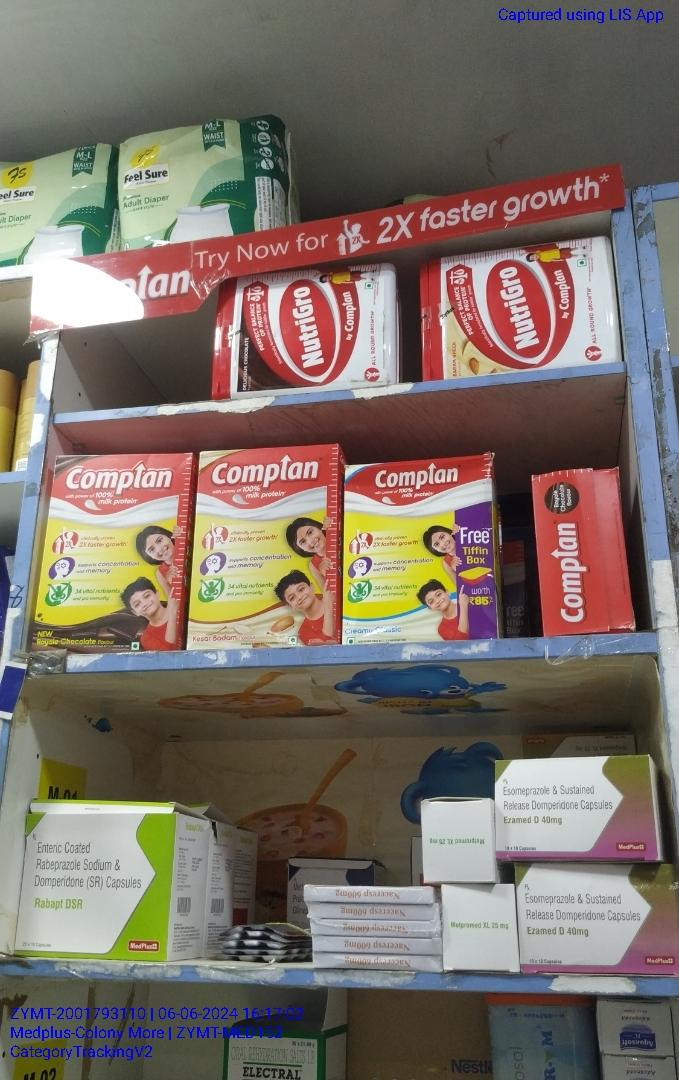COMPLAN_CHOCOLATE_500_GMS_PACK: (48, 454, 184, 652)
COMPLAN_CREAMY_CLASSIC_500_G_PACK: (345, 461, 489, 642)
COMPLAN_KESAR_BADAM_500_GMS_PACK: (197, 449, 338, 650)
